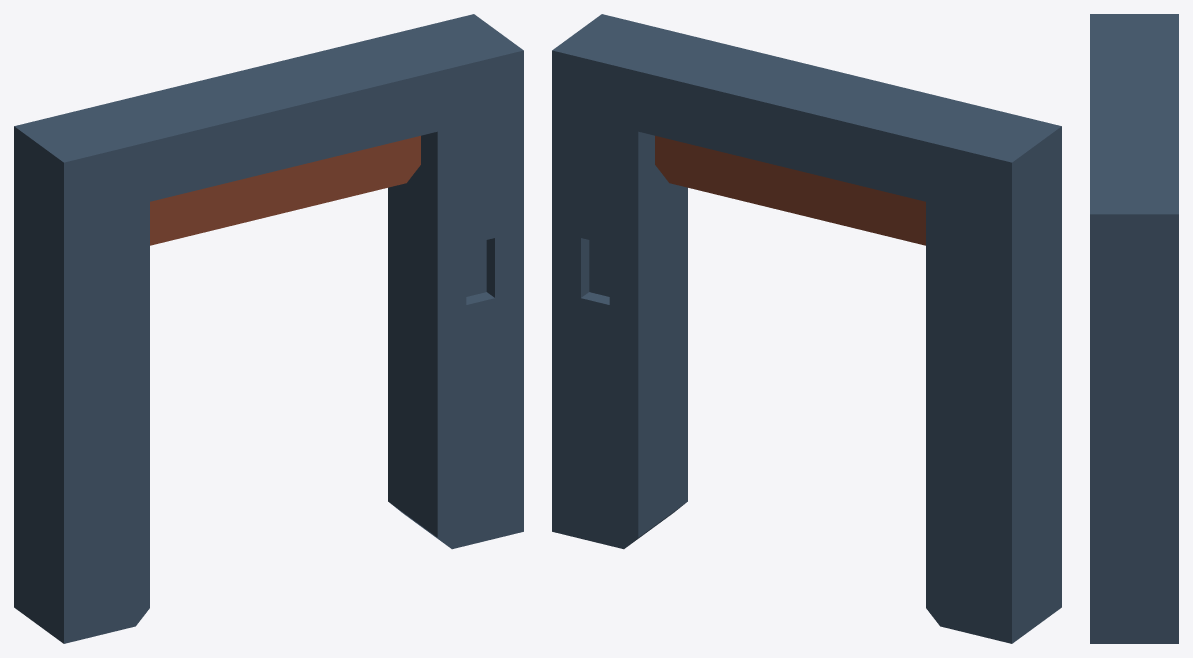
Rendered from door.glb.
3 renders of one model, left to right at view 1: azimuth 30°, elevation 25°; view 2: azimuth 150°, elevation 25°; view 3: azimuth 270°, elevation 25°, orthographic. The views are drawn at different scales.
Visible parts, largest first — view 1: generated(Clone); view 2: generated(Clone); view 3: generated(Clone).
Boxes of the visible parts, x1,y1,x2,y2 form: generated(Clone): (14, 14, 523, 643); generated(Clone): (552, 14, 1061, 643); generated(Clone): (1090, 14, 1178, 643).
Size of the model in its own units: 16 by 16 by 3.
Materials: 1 (1 with a texture image).
